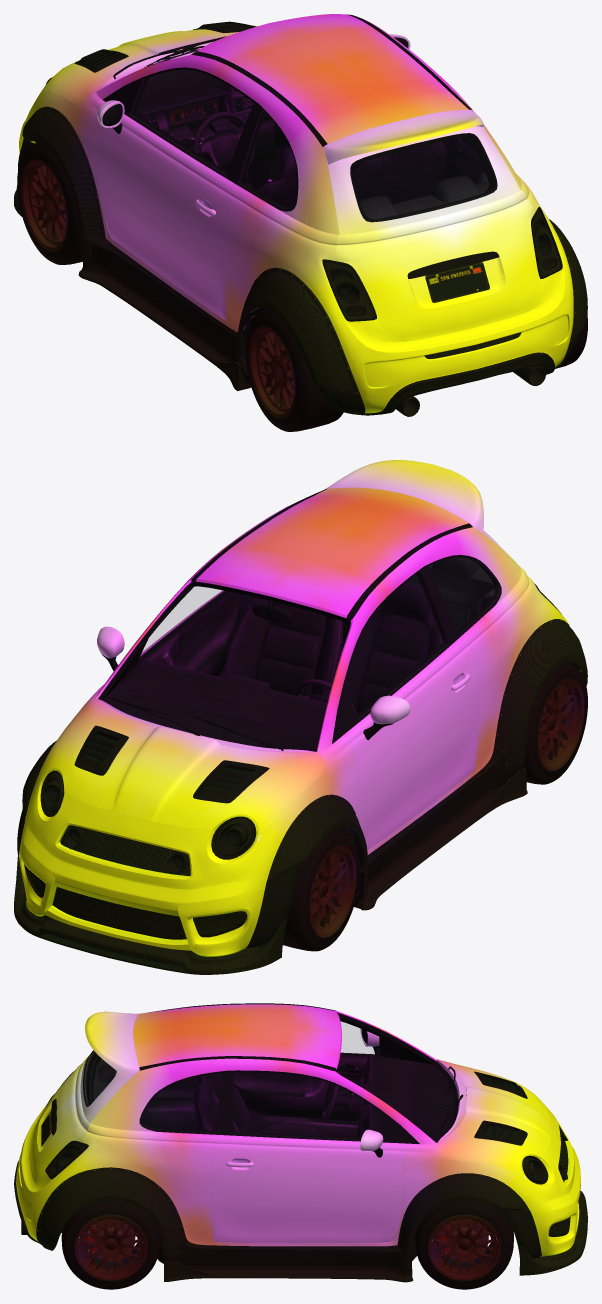
Rendered from brioso.glb.
3 renders of one model, top to bottom at view 1: azimuth 30°, elevation 25°; view 2: azimuth 150°, elevation 25°; view 3: azimuth 270°, elevation 25°, orthographic. The views are drawn at different scales.
Parts seen in each view (by area): view 1: bodyshell, boot, door_dside_f, bumper_r, chassis, windscreen_r, window_lf, wheel_lr, wheel_lf, bonnet, misc_a, window_lr (+2 smaller); view 2: bodyshell, chassis, bumper_f, bonnet, door_dside_f, window_lf, wheel_lf, door_pside_f, wheel_lr, misc_a, window_lr, window_rf; view 3: bodyshell, door_pside_f, chassis, bonnet, window_rf, wheel_rf, wheel_rr, door_dside_f, bumper_f, boot, bumper_r, window_rr (+4 smaller).
Boxes of the visible parts, bbox=[...] form: bodyshell: bbox=[22, 14, 581, 390]; boot: bbox=[323, 109, 540, 341]; door_dside_f: bbox=[97, 68, 260, 320]; bumper_r: bbox=[297, 260, 587, 415]; chassis: bbox=[30, 36, 545, 416]; windscreen_r: bbox=[350, 135, 494, 220]; window_lf: bbox=[132, 70, 253, 173]; wheel_lr: bbox=[245, 309, 343, 431]; wheel_lf: bbox=[17, 142, 82, 264]; bonnet: bbox=[41, 21, 257, 104]; misc_a: bbox=[324, 110, 483, 164]; window_lr: bbox=[240, 111, 296, 208]; bodyshell: bbox=[22, 487, 581, 910]; chassis: bbox=[98, 557, 579, 908]; bumper_f: bbox=[14, 809, 304, 974]; bonnet: bbox=[41, 698, 325, 834]; door_dside_f: bbox=[337, 566, 479, 850]; window_lf: bbox=[345, 573, 446, 717]; wheel_lf: bbox=[283, 828, 359, 951]; door_pside_f: bbox=[97, 588, 244, 678]; wheel_lr: bbox=[522, 661, 587, 784]; misc_a: bbox=[324, 460, 483, 532]; window_lr: bbox=[428, 558, 497, 631]; window_rf: bbox=[138, 587, 226, 661]; bodyshell: bbox=[45, 1003, 574, 1282]; door_pside_f: bbox=[211, 1071, 403, 1242]; chassis: bbox=[21, 1012, 463, 1263]; bonnet: bbox=[437, 1059, 551, 1174]; window_rf: bbox=[234, 1072, 378, 1138]; wheel_rf: bbox=[415, 1201, 513, 1289]; wheel_rr: bbox=[61, 1201, 160, 1289]; door_dside_f: bbox=[233, 1020, 399, 1137]; bumper_f: bbox=[497, 1146, 587, 1275]; boot: bbox=[30, 1014, 139, 1180]; bumper_r: bbox=[14, 1105, 76, 1250]; window_rr: bbox=[142, 1073, 221, 1131].
Bounding box in the file's own units: 1.75 × 1.49 × 3.62.
Materials: 18 (18 with a texture image).
